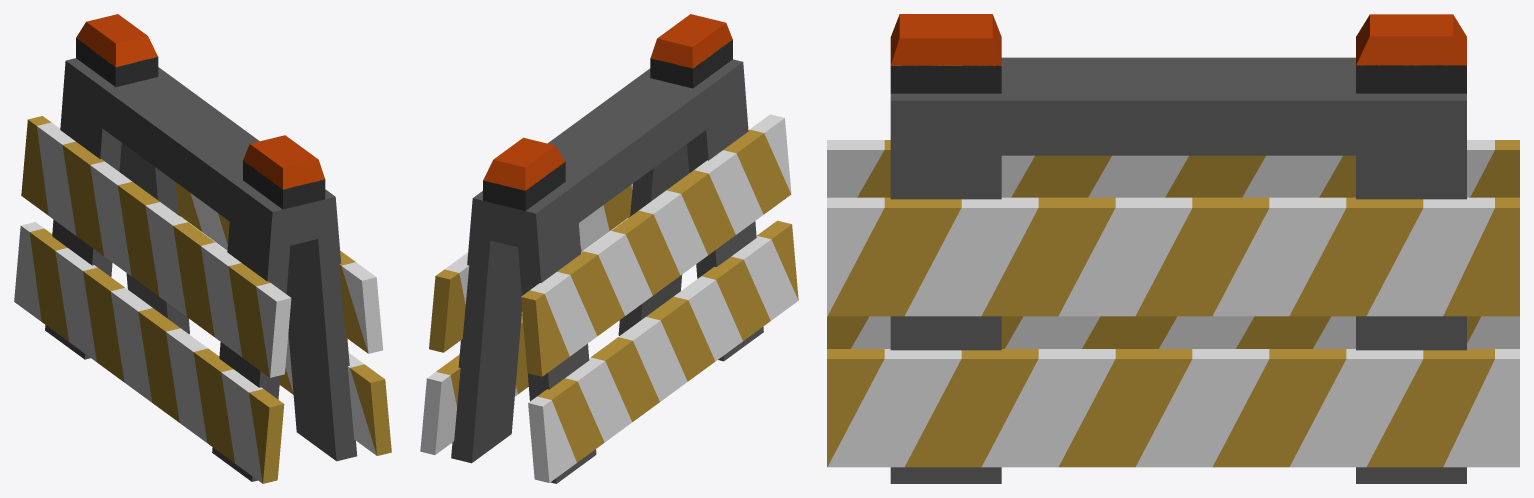
The model's file is BARRIER.fbx.
3 views of the same model, side by side, from view 1: azimuth 30°, elevation 25°; view 2: azimuth 150°, elevation 25°; view 3: azimuth 270°, elevation 25° (orthographic). The views are drawn at different scales.
Visible parts, largest first — view 1: pCube18; view 2: pCube18; view 3: pCube18.
Part boxes in pixels (box(x1,y1,x2,y2)): pCube18: box(14, 14, 391, 483); pCube18: box(420, 14, 798, 483); pCube18: box(827, 14, 1519, 483).
Bounding box in the file's own units: 3.57 × 8.02 × 11.92.
